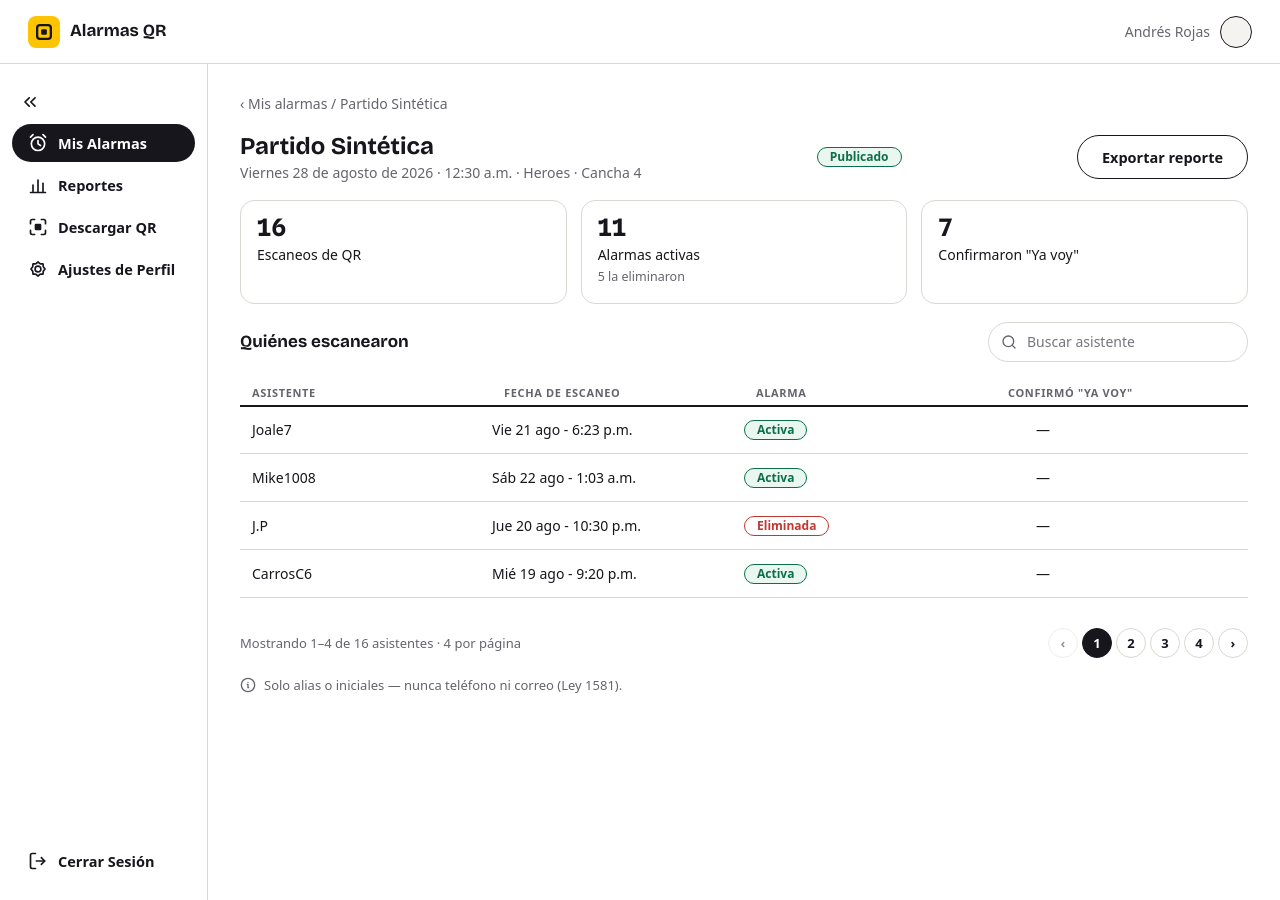
Test: W03 · Detalle Evento › el paginador navega a la página 2 con LauM, Nico_R, D.G, Vale22
Click the button "2" at (1131, 643), box [1116,628,1146,658]
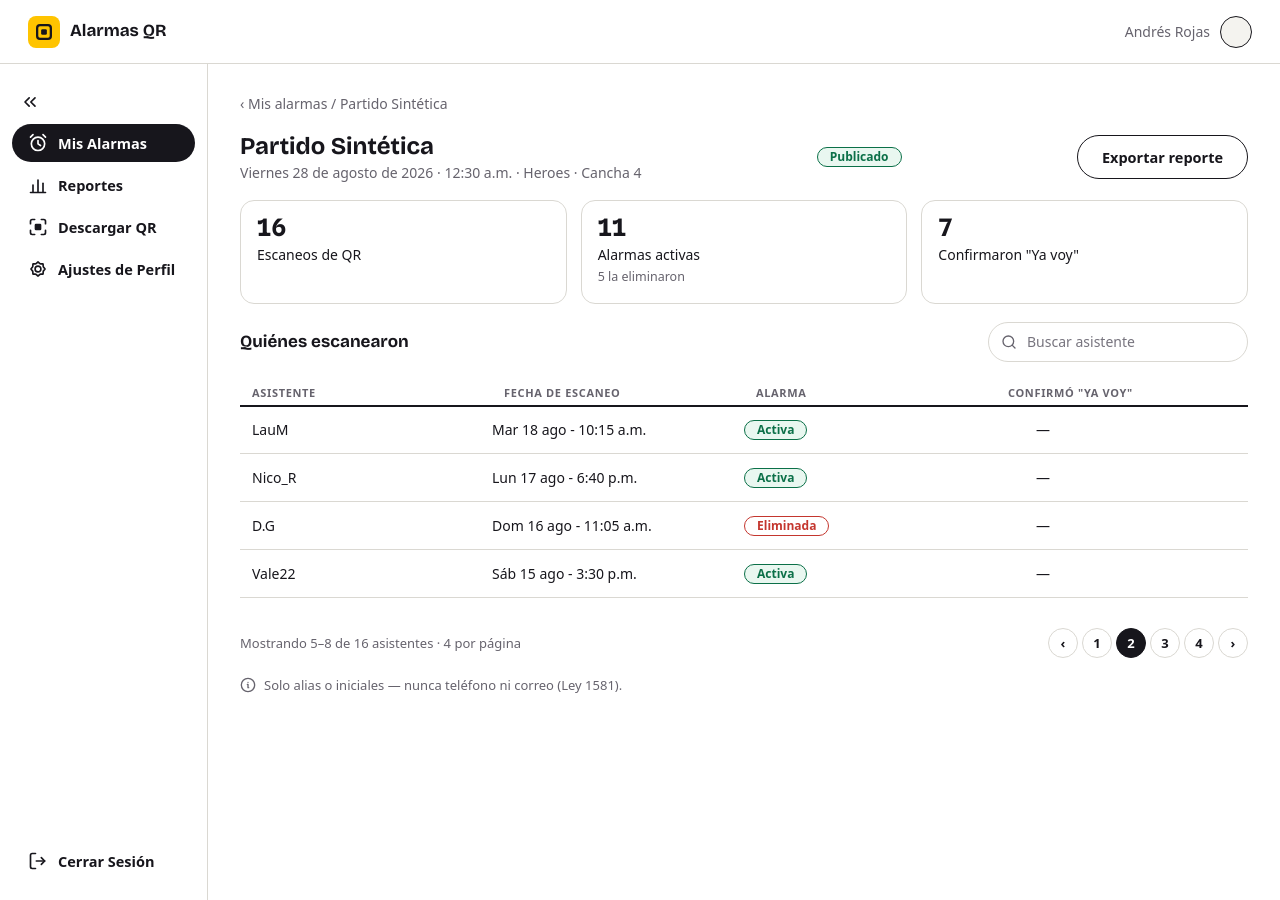
Result: the element that starts with "‹ Mis alarmas / Partido Sintética" shows "LauM" at [252,420,288,439]
Result: the element that starts with "‹ Mis alarmas / Partido Sintética" shows "Vale22" at [252,564,296,583]
